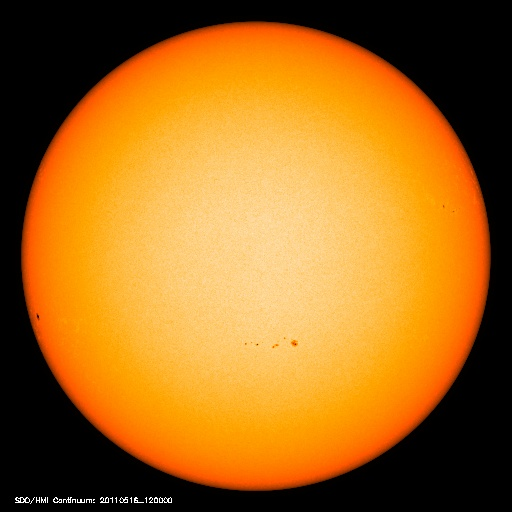sunspot: (228, 328, 306, 355), (433, 194, 463, 220), (23, 304, 52, 329)
